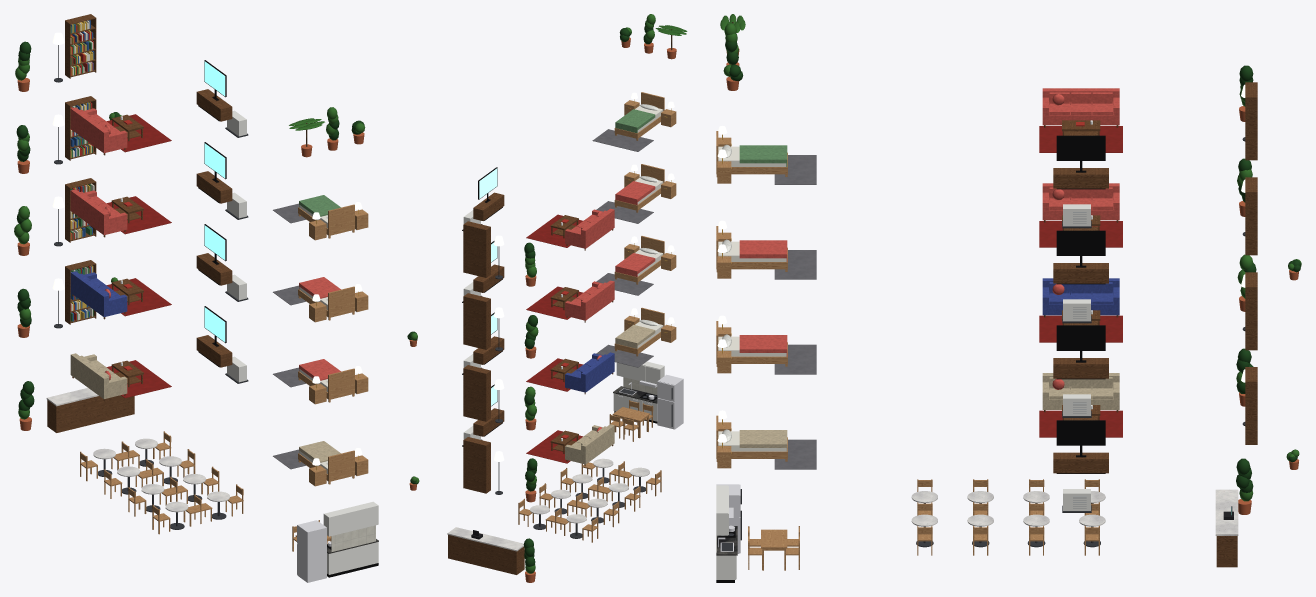
Rendered from i_vn_tube_house.gltf.
3 renders of one model, left to right at view 1: azimuth 30°, elevation 25°; view 2: azimuth 150°, elevation 25°; view 3: azimuth 270°, elevation 25°, orthographic. The views are drawn at different scales.
Visible parts, largest first — view 1: I_vn_tube_house; view 2: I_vn_tube_house; view 3: I_vn_tube_house.
Boxes of the visible parts, x1,y1,x2,y2 form: I_vn_tube_house: (14,14,378,582); I_vn_tube_house: (407,14,687,582); I_vn_tube_house: (716,14,1301,582).
Size of the model in its own units: 5.86 by 16.97 by 16.78.
Materials: 34 (14 with a texture image).
